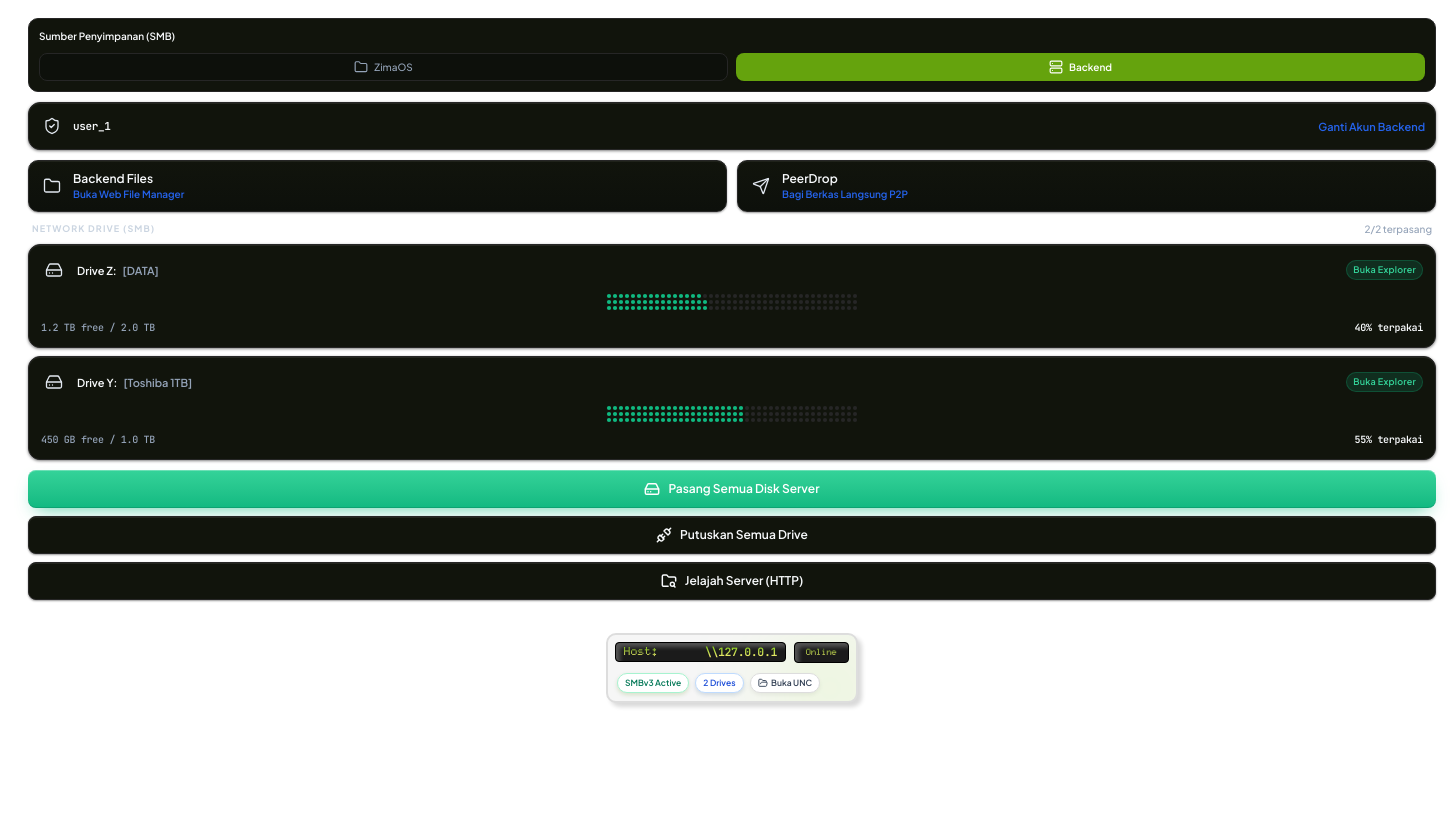
Test case: FilesView SMB source toggle & Backend login (D-06, SMB-05) › keeps Batal Ganti Akun visible when Ganti Akun Backend submission fails (WR-05)
Click the button "Ganti Akun Backend": (1372, 126) [1318, 118, 1425, 134]
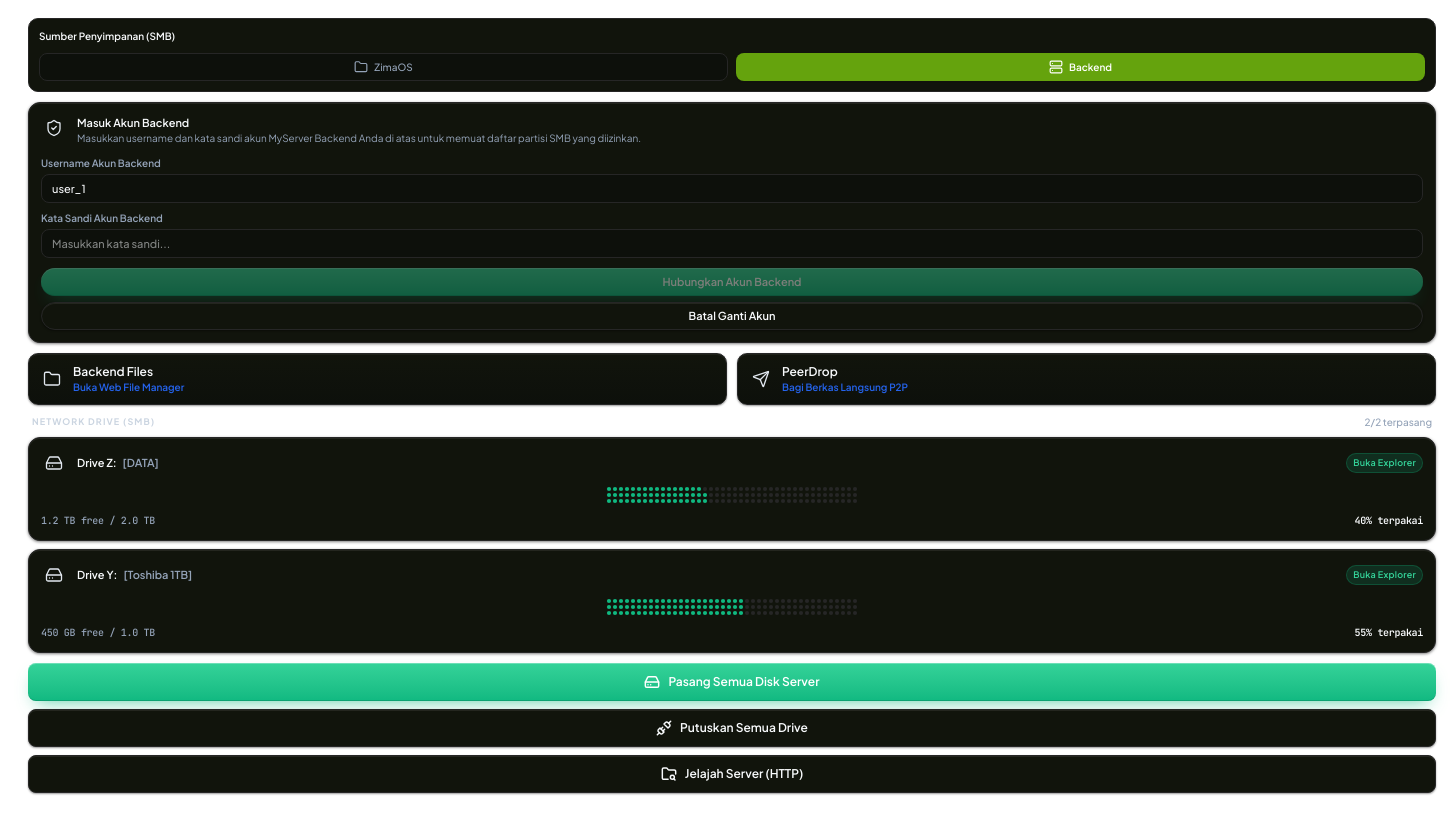
Replace the text in the field labelled "Username Akun Backend" with "other_user": (732, 188) [41, 174, 1423, 203]
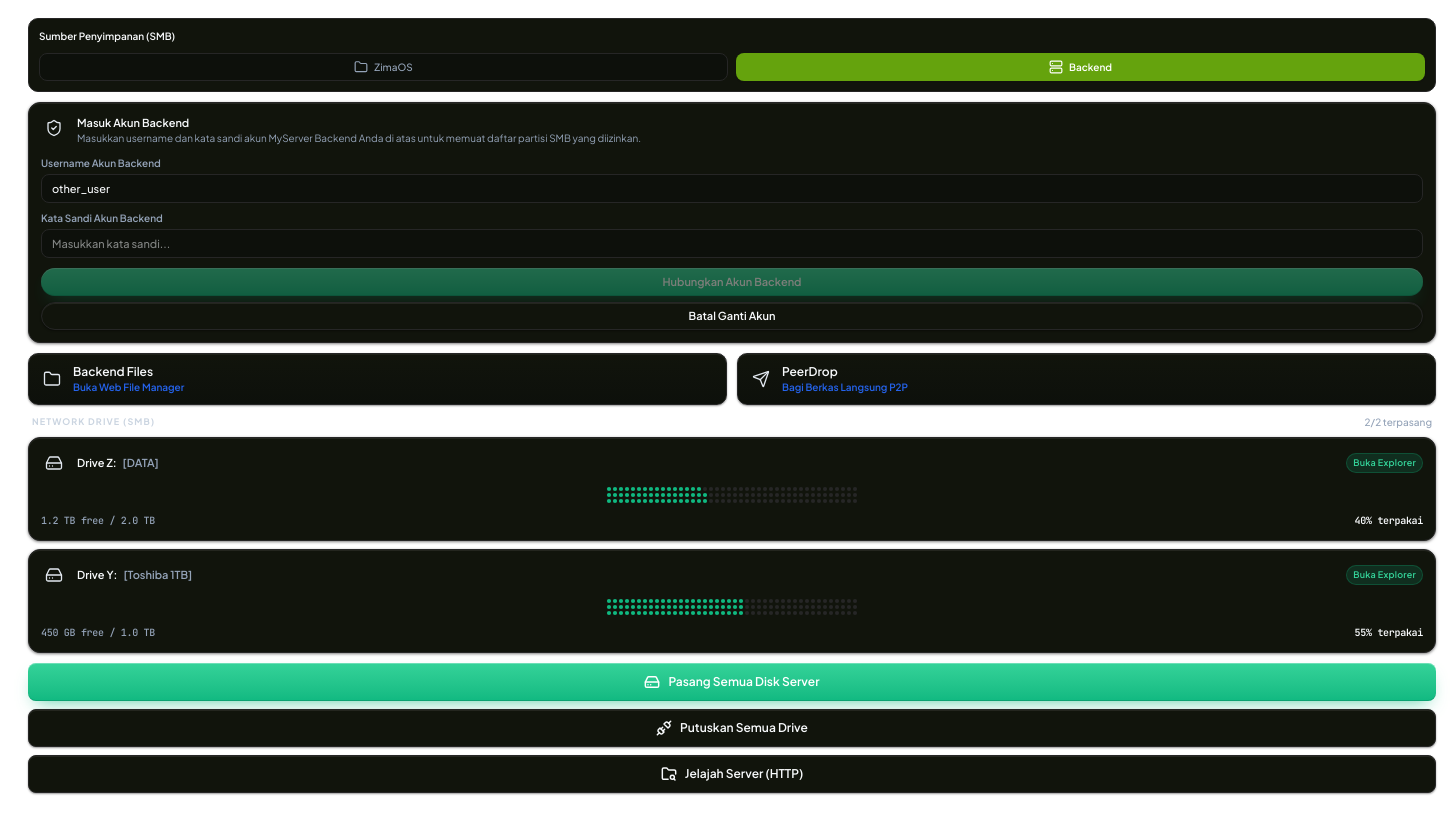
In the password field labelled "Kata Sandi Akun Backend": (732, 243) [41, 229, 1423, 258], type "wrong_pw"
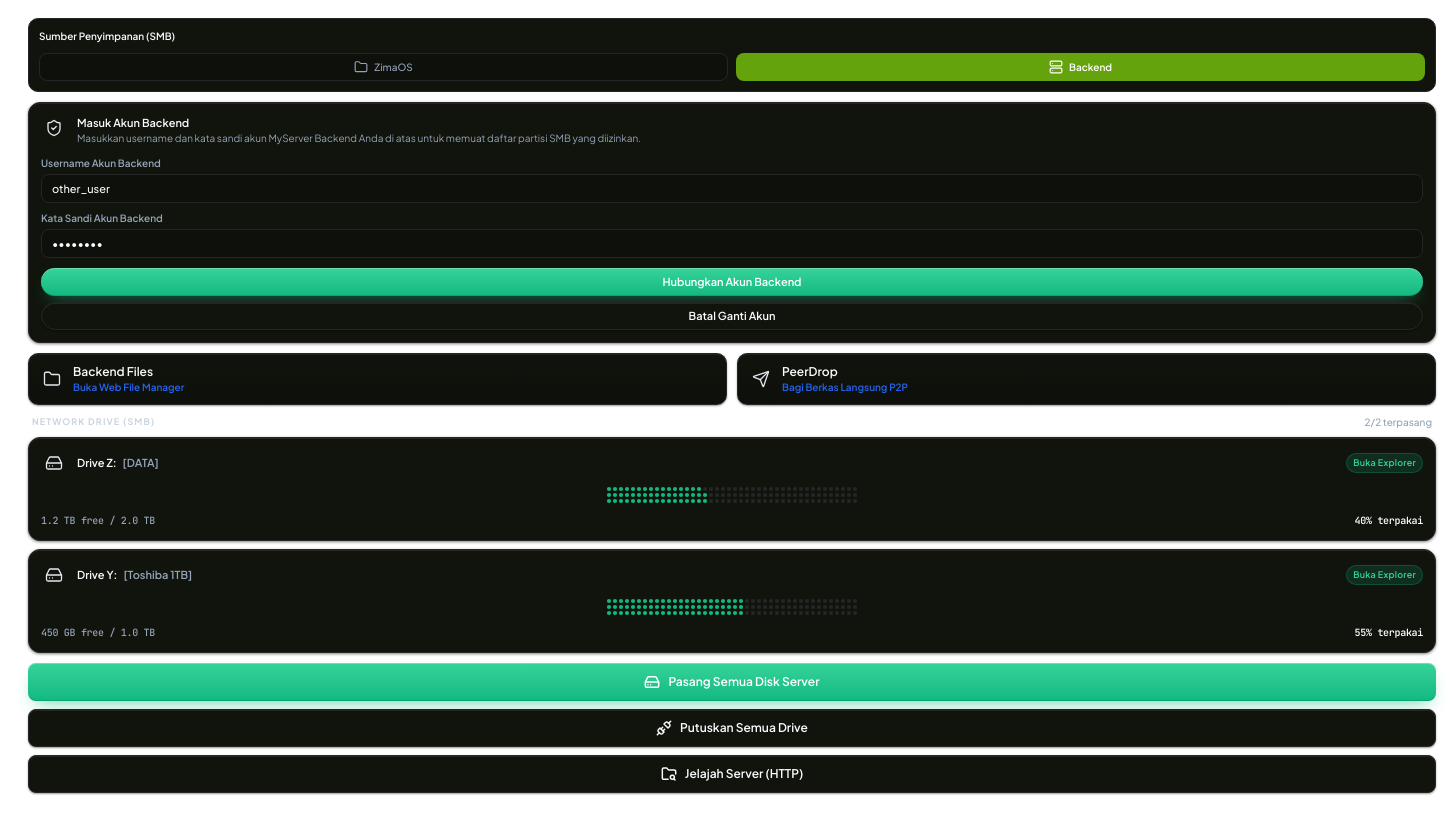
Click the button "Hubungkan Akun Backend": (732, 282) [41, 268, 1423, 296]
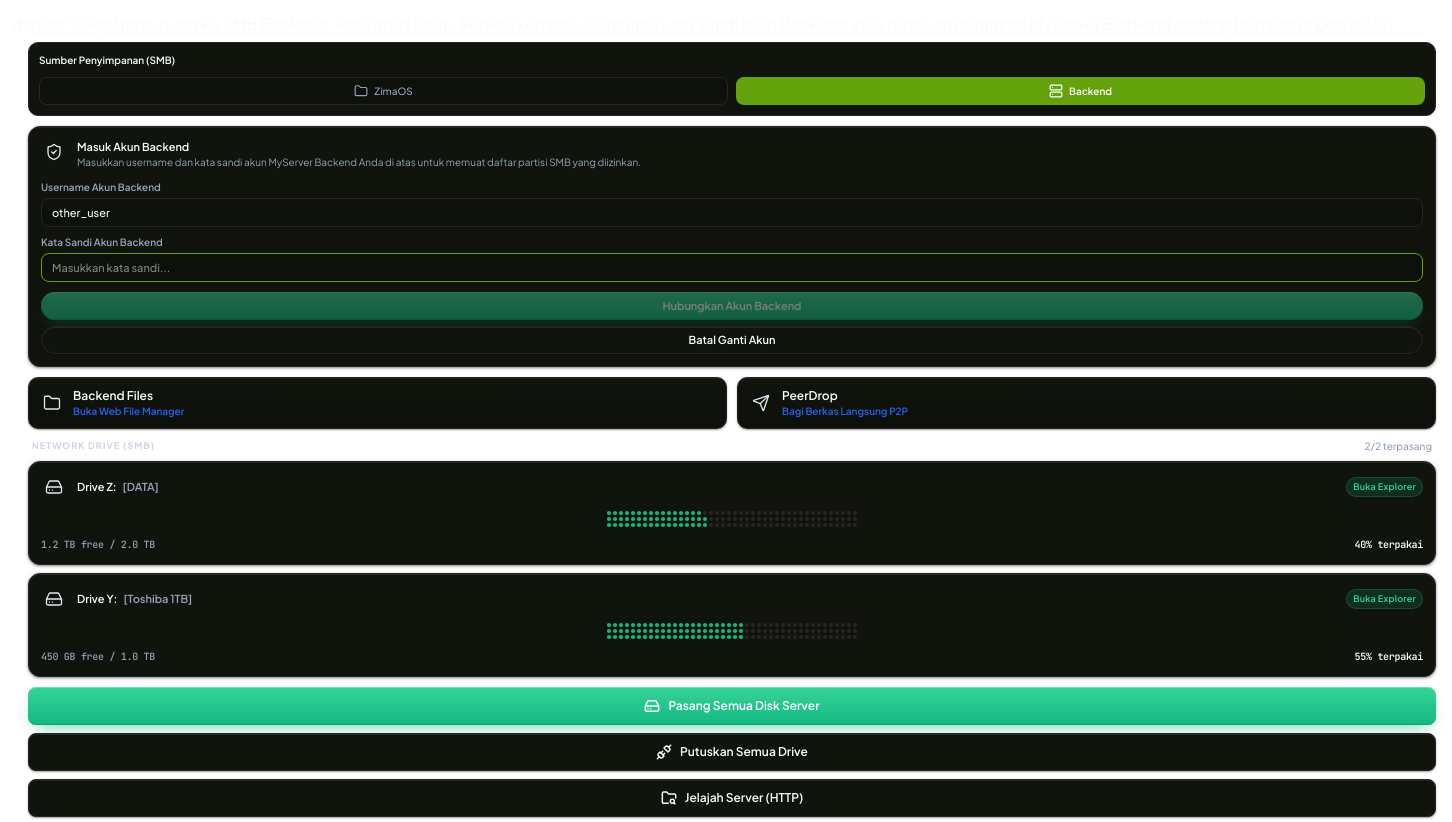
Now the button "Batal Ganti Akun" is shown
Click the button "Batal Ganti Akun": (732, 340) [41, 326, 1423, 354]
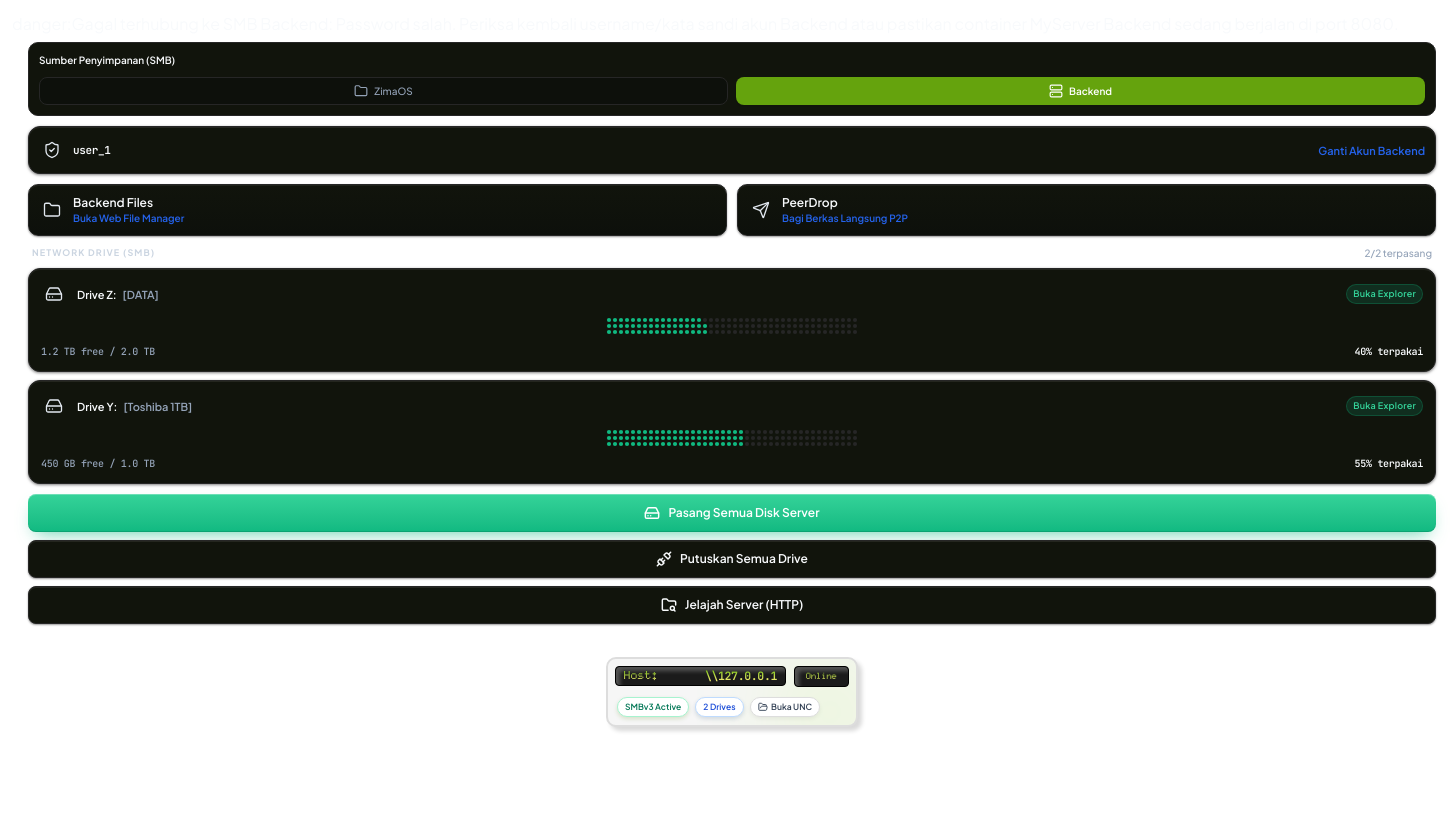
Expected: the field labelled "Kata Sandi Akun Backend" is not shown
Now the text "user_1" is shown, box [73, 142, 111, 158]
